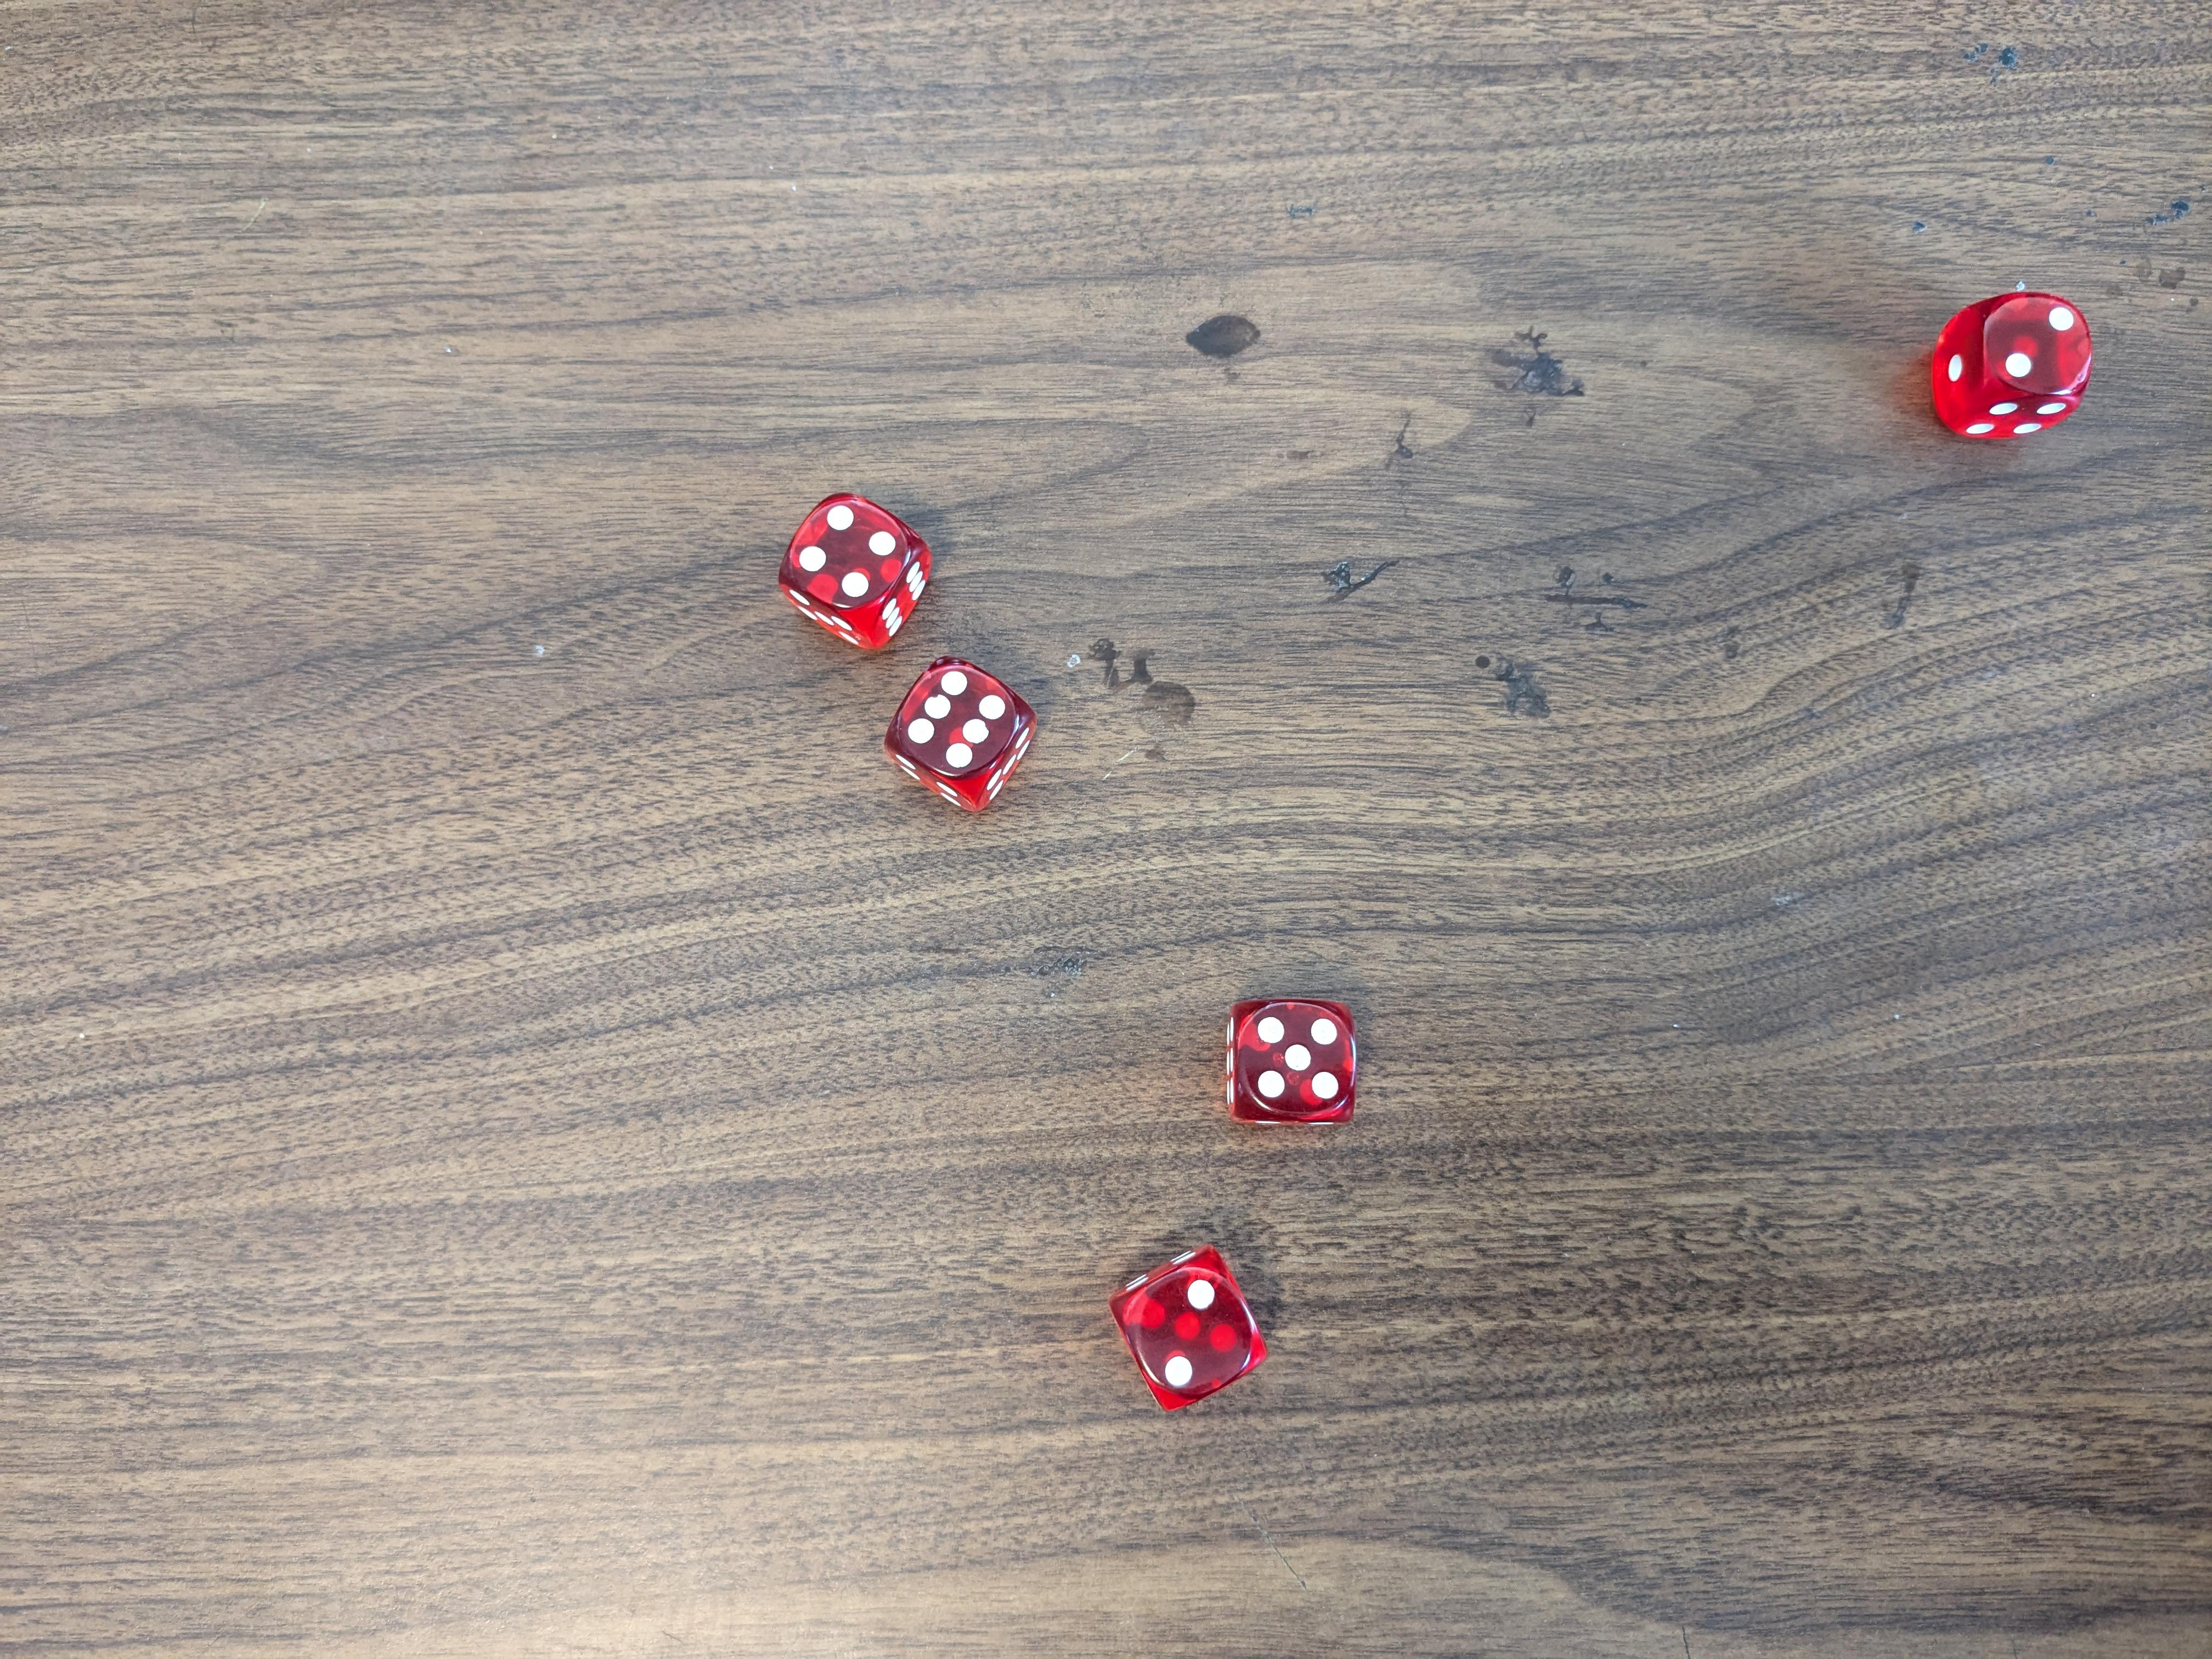five: (1219, 995, 1360, 1134)
four: (775, 488, 941, 653)
six: (885, 653, 1042, 812)
two: (1111, 1243, 1275, 1422), (1939, 288, 2088, 444)
